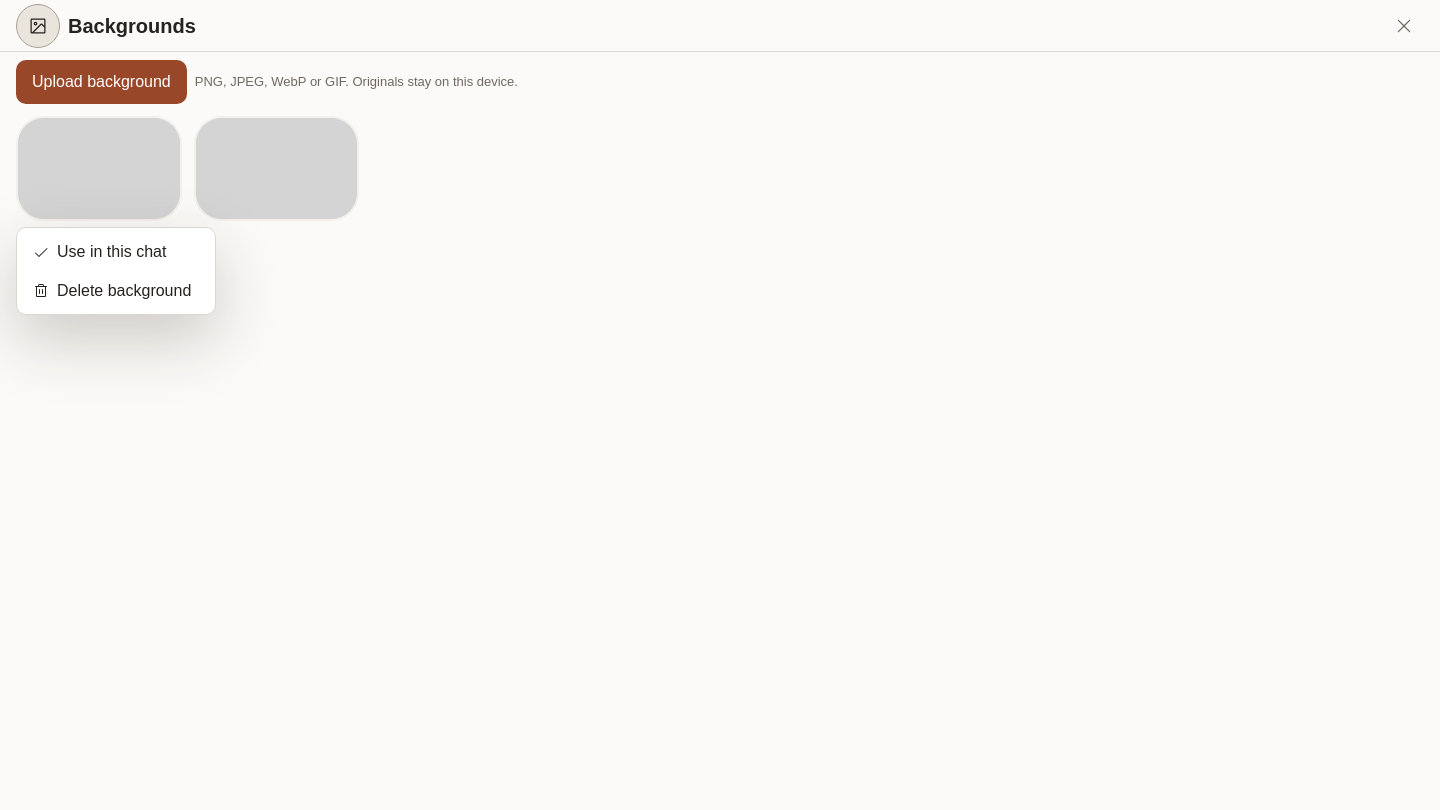
Test: BackgroundsPanel › deletes a background via context menu after confirmation
expect the file field "Upload background" is shown: met, box [16,60,187,104]
What coordinates should you click on to do the following:
click the menu item "Delete background"
I would click on:
 (112, 291)
Its box is [33,282,191,299].
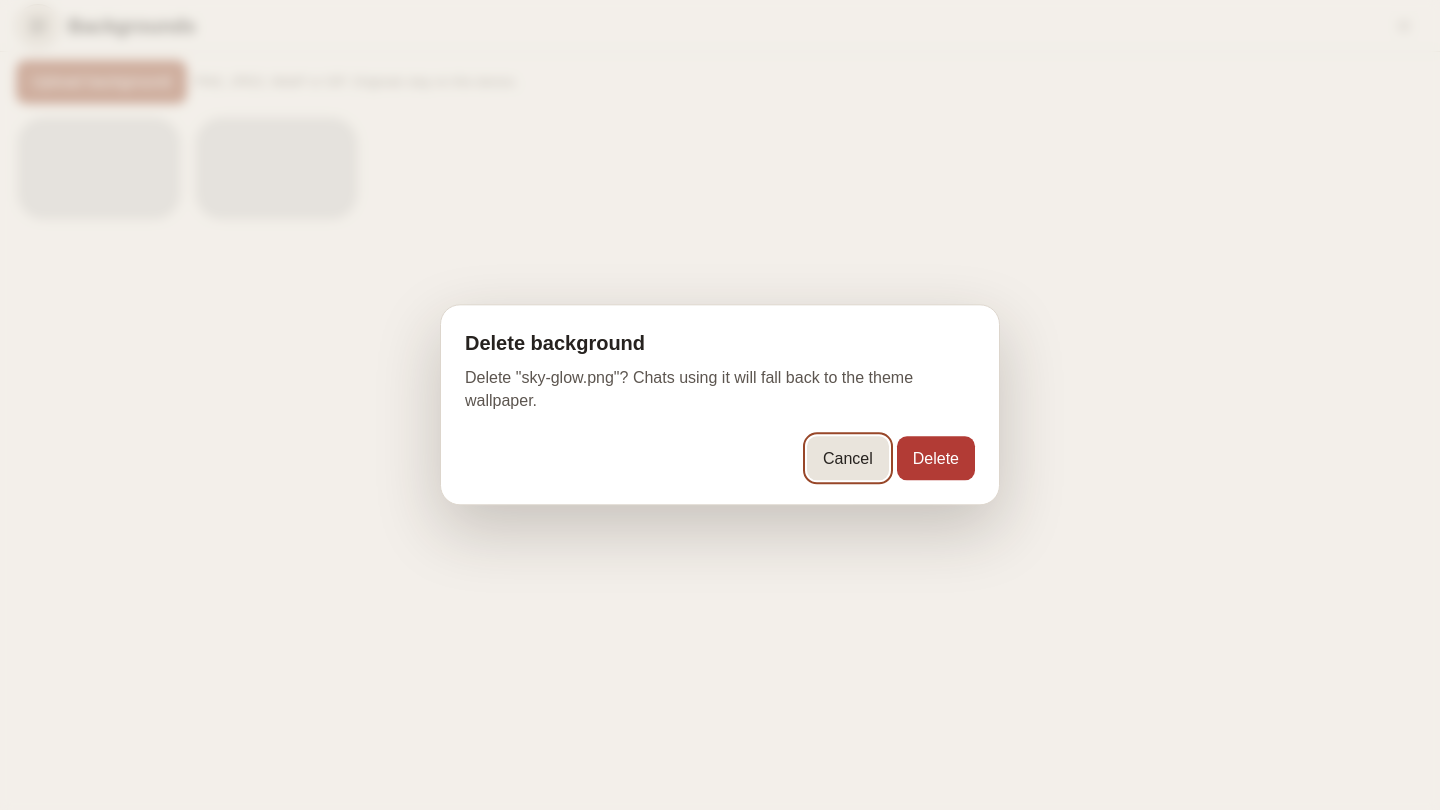
expect the dialog shows "sky-glow.png": met, box [465,369,913,410]
What coordinates should you click on to do the following:
click the button "Delete"
I would click on:
 (936, 459)
Its box is [897,437,975,481].
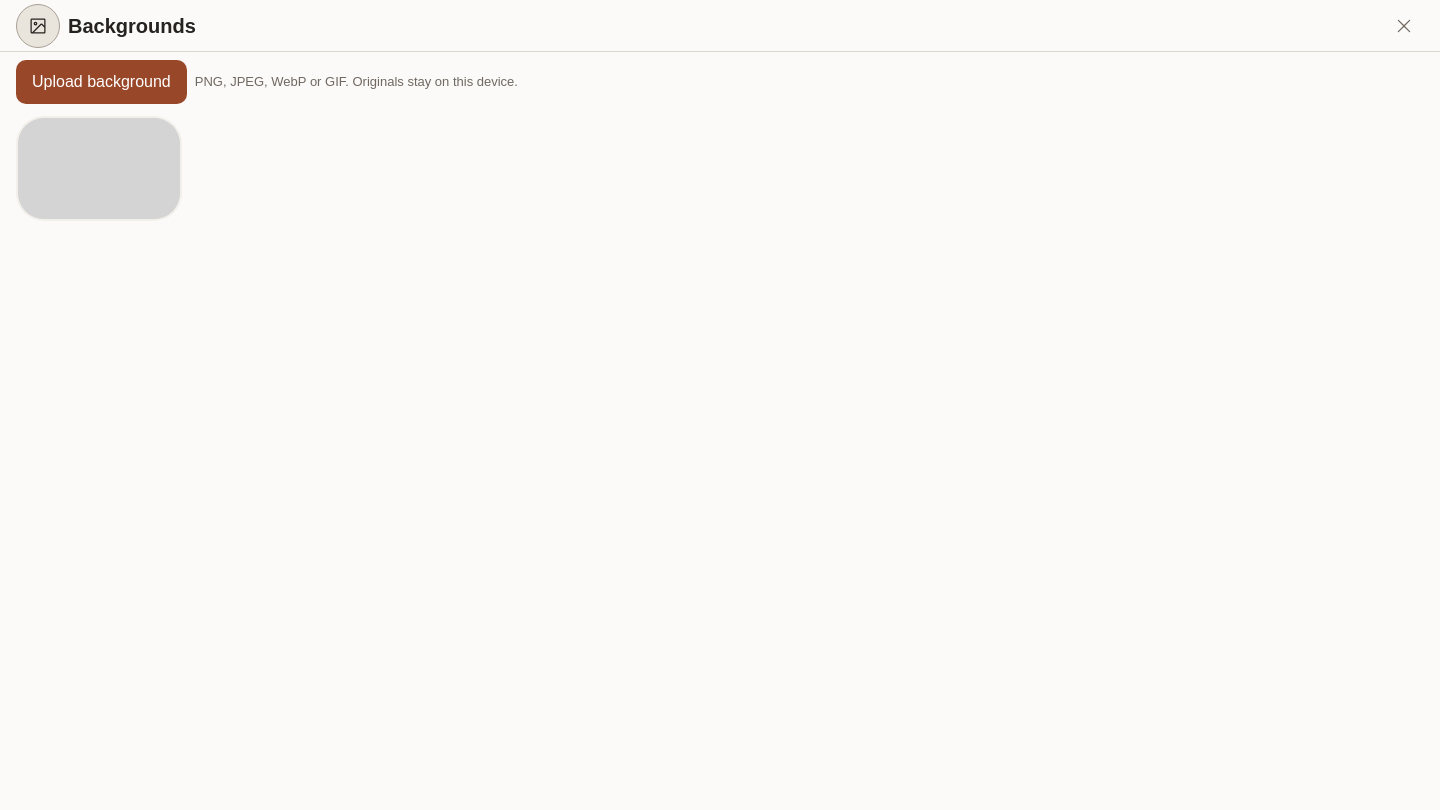
expect the text titled "sky-glow.png" is gone: met
